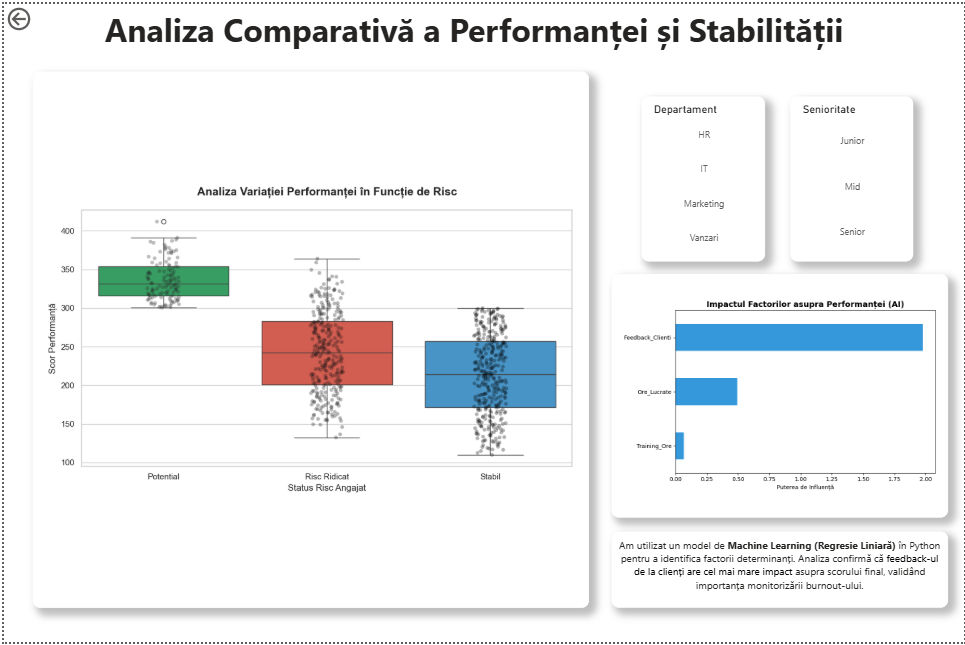

What the dashboard file says about the page in this screenshot:
{"tool":"powerbi","page":{"name":"Analiza Comparativa","canvas":[1280,850],"ordinal":7},"visuals":[{"type":"pythonVisual","fields":{"Values":["date_angajati.Status_Risc","date_angajati.Scor_Performanta"]},"box":[38.8,90,741.2,715],"z":0},{"type":"slicer","fields":{"Values":["date_angajati.Departament"]},"box":[850,123.8,165,220],"z":1000},{"type":"slicer","fields":{"Values":["date_angajati.Senioritate"]},"box":[1047.5,123.8,163.8,220],"z":2000},{"type":"textbox","box":[30,0,1193.3,85],"z":3000},{"type":"pythonVisual","fields":{"Values":["date_angajati.Ore_Lucrate","date_angajati.Training_Ore","date_angajati.Feedback_Clienti","date_angajati.Scor_Performanta"]},"box":[810,360,448.8,325],"z":4000},{"type":"textbox","box":[810,703.8,448.8,101.2],"z":5000},{"type":"actionButton","box":[0,0,100,40],"z":6000}]}

Visuals, with their boxes in screenshot pixels (x1, y1, x2, y2), scaled from the page's 1280x850 canvas onto the 965x645 screenshot:
pythonVisual - date_angajati.Status_Risc x date_angajati.Scor_Performanta: x1=29, y1=68, x2=588, y2=611
slicer - date_angajati.Departament: x1=641, y1=94, x2=765, y2=261
slicer - date_angajati.Senioritate: x1=790, y1=94, x2=913, y2=261
textbox: x1=23, y1=0, x2=922, y2=64
pythonVisual - date_angajati.Ore_Lucrate x date_angajati.Training_Ore: x1=611, y1=273, x2=949, y2=520
textbox: x1=611, y1=534, x2=949, y2=611
actionButton: x1=0, y1=0, x2=75, y2=30
